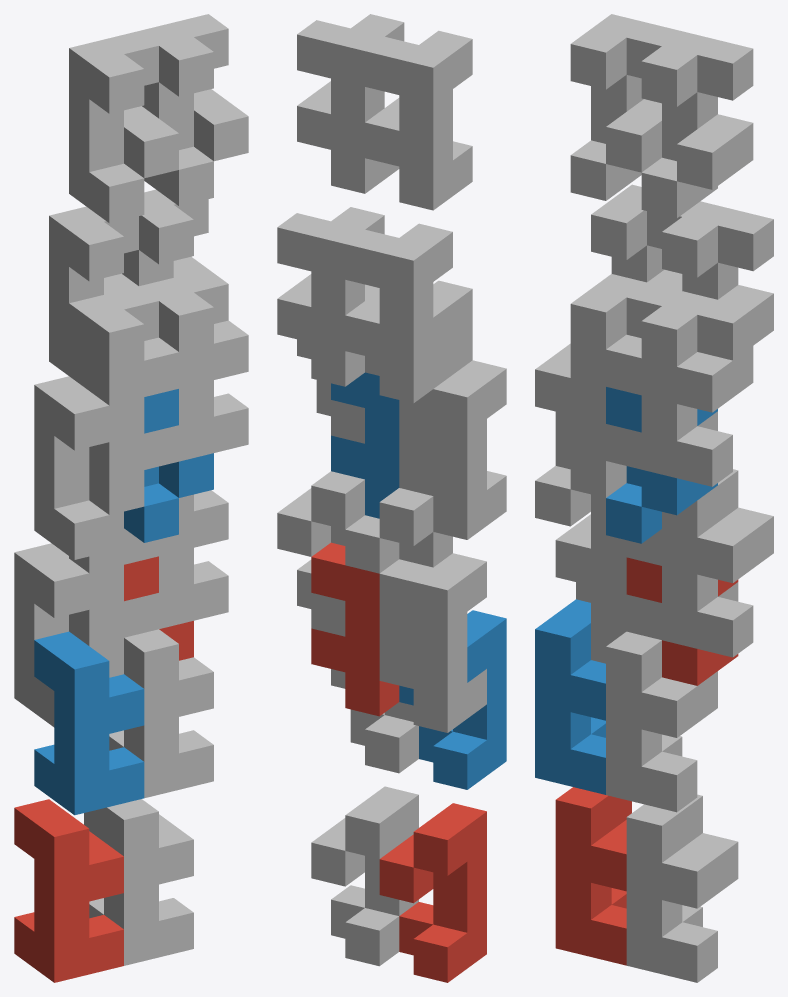
File: tiling.obj
The picture shows the model from 3 angles, left to right: view 1: azimuth 30°, elevation 25°; view 2: azimuth 150°, elevation 25°; view 3: azimuth 330°, elevation 25°; orthographic projection. The views are drawn at different scales.
Visible parts, largest first — view 1: copy_2_domain_4, copy_1_domain_1, copy_1_domain_2, copy_2_domain_2, copy_2_domain_8, copy_1_domain_4, copy_1_domain_5, copy_1_domain_6, copy_1_domain_8, copy_2_domain_3, copy_2_domain_1, copy_1_domain_7 (+4 smaller); view 2: copy_2_domain_4, copy_2_domain_3, copy_1_domain_1, copy_2_domain_1, copy_2_domain_2, copy_1_domain_5, copy_2_domain_8, copy_2_domain_7, copy_1_domain_2, copy_2_domain_5, copy_1_domain_3, copy_1_domain_7 (+4 smaller); view 3: copy_1_domain_5, copy_2_domain_8, copy_1_domain_8, copy_1_domain_7, copy_1_domain_6, copy_2_domain_4, copy_2_domain_7, copy_1_domain_1, copy_1_domain_2, copy_1_domain_4, copy_2_domain_3, copy_2_domain_2 (+4 smaller).
Boxes of the visible parts, x1,y1,x2,y2 form: copy_2_domain_4: [69, 31, 178, 223]; copy_1_domain_1: [14, 799, 123, 982]; copy_1_domain_2: [34, 631, 144, 815]; copy_2_domain_2: [34, 376, 144, 559]; copy_2_domain_8: [139, 14, 248, 206]; copy_1_domain_4: [69, 295, 178, 478]; copy_1_domain_5: [84, 799, 193, 965]; copy_1_domain_6: [109, 629, 213, 798]; copy_1_domain_8: [139, 278, 248, 461]; copy_2_domain_3: [49, 206, 158, 390]; copy_2_domain_1: [14, 543, 123, 727]; copy_1_domain_7: [159, 490, 228, 628]; copy_2_domain_4: [365, 30, 472, 210]; copy_2_domain_3: [345, 223, 452, 403]; copy_1_domain_1: [379, 803, 486, 982]; copy_2_domain_1: [379, 553, 486, 732]; copy_2_domain_2: [399, 360, 506, 539]; copy_1_domain_5: [311, 786, 418, 966]; copy_2_domain_8: [297, 14, 404, 193]; copy_2_domain_7: [277, 207, 384, 386]; copy_1_domain_2: [399, 610, 506, 789]; copy_2_domain_5: [311, 542, 399, 716]; copy_1_domain_3: [345, 488, 452, 653]; copy_1_domain_7: [277, 471, 364, 636]; copy_1_domain_5: [626, 794, 738, 982]; copy_2_domain_8: [641, 31, 753, 218]; copy_1_domain_8: [641, 291, 753, 486]; copy_1_domain_7: [662, 469, 773, 657]; copy_1_domain_6: [606, 631, 717, 812]; copy_2_domain_4: [570, 14, 681, 200]; copy_2_domain_7: [662, 202, 773, 360]; copy_1_domain_1: [555, 787, 631, 965]; copy_1_domain_2: [535, 599, 605, 794]; copy_1_domain_4: [570, 274, 646, 469]; copy_2_domain_3: [591, 184, 702, 338]; copy_2_domain_2: [535, 343, 626, 526].
Bounding box in the file's own units: 5 × 25 × 3.
